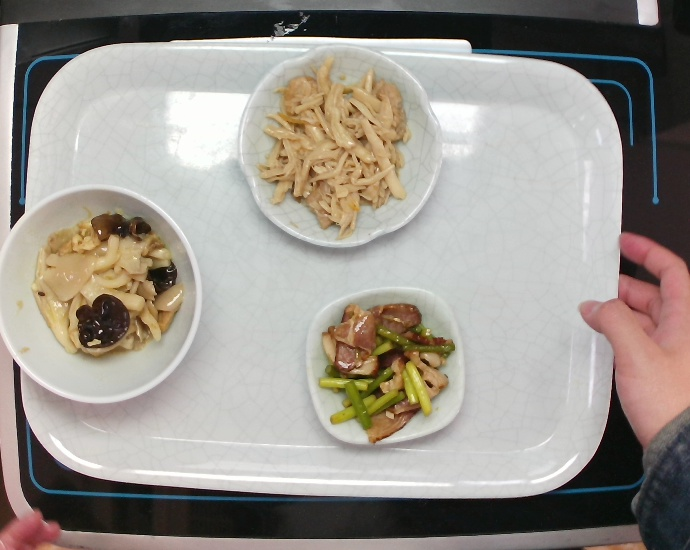JYsf-Ao_Yuan_Wan: (235, 40, 445, 251)
JYsf-Fan_Wan: (1, 181, 204, 407)
JYsf-Si_Fang_Die: (301, 282, 468, 448)
